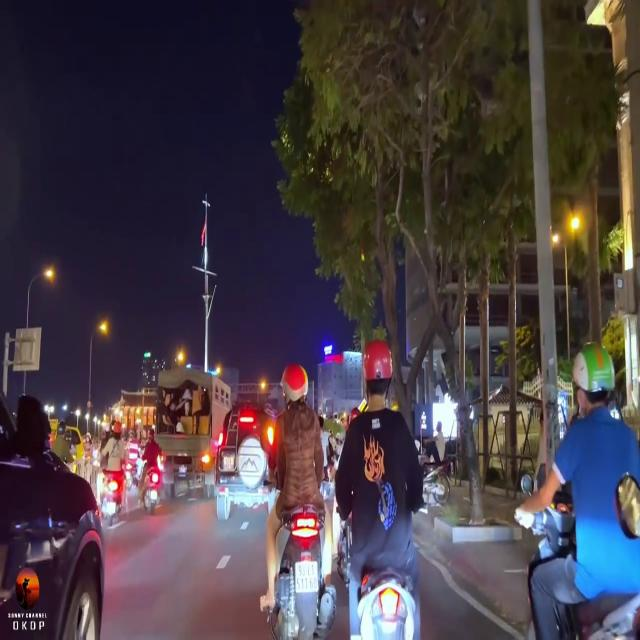bien_trang: (291, 554, 327, 604)
